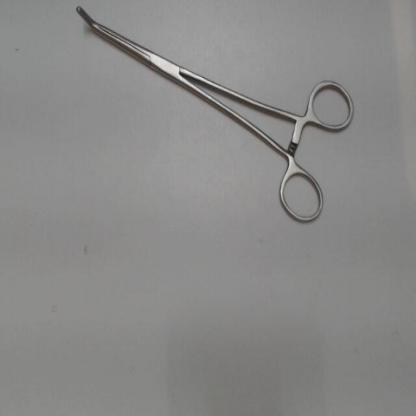Lahey Forceps: (69, 0, 358, 230)
